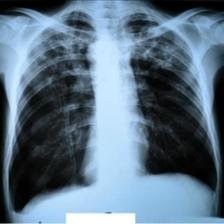tuberculosis: (5, 7, 222, 216)
